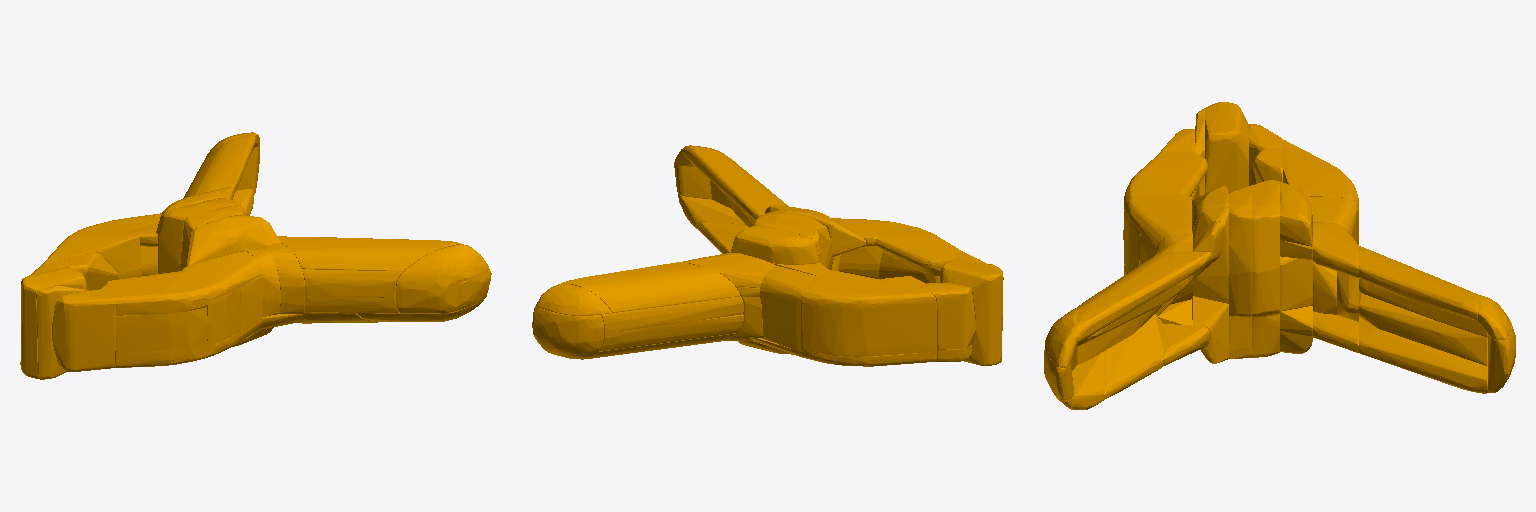
The robot description file, URDF, robot "050_medium_clamp":
<?xml version="1.0" encoding="UTF-8"?>
<robot name="050_medium_clamp">
	<link name="base">
		<collision>
			<geometry>
				<mesh filename="..\vhacd\050_medium_clamp_vhacd.obj" scale="1.0 1.0 1.0"/>
			</geometry>
			<origin xyz="0 0 0"/>
			<contact_coefficients mu="0.24" />
		</collision>
		<visual>
			<geometry>
				<mesh filename="..\vhacd\050_medium_clamp_vhacd.obj" scale="1.0 1.0 1.0"/>
			</geometry>
			<origin xyz="0 0 0"/>
		</visual>
		<inertial>
			<mass value="0"/>
			<inertia ixx="0.0" ixy="-0.0" ixz="-0.0" iyy="0.0" iyz="0.0" izz="0.0" />
			<origin xyz="0.010827483018929987 -0.014903600041181377 0.01261793489215033"/>
		</inertial>
	</link>
</robot>

--- What the picture shows (computed from the rendered views, not written in the file) ---
Views: 3 orthographic renders of the robot side by side, from view 1: azimuth 30°, elevation 25°; view 2: azimuth 150°, elevation 25°; view 3: azimuth 270°, elevation 25°.
Model 050_medium_clamp with 1 links and 0 joints (none), rooted at base, posed every joint at zero.
Links seen in each view (by area): view 1: base; view 2: base; view 3: base.
Boxes of the visible links, x1,y1,x2,y2 form: base: (20,132,491,379); base: (532,145,1003,366); base: (1044,102,1515,409).
Bounding box of the posed robot: 0.0891 × 0.0769 × 0.0262 m (x, y, z).
1 mesh visuals loaded from 1 distinct referenced files (1 OBJ).